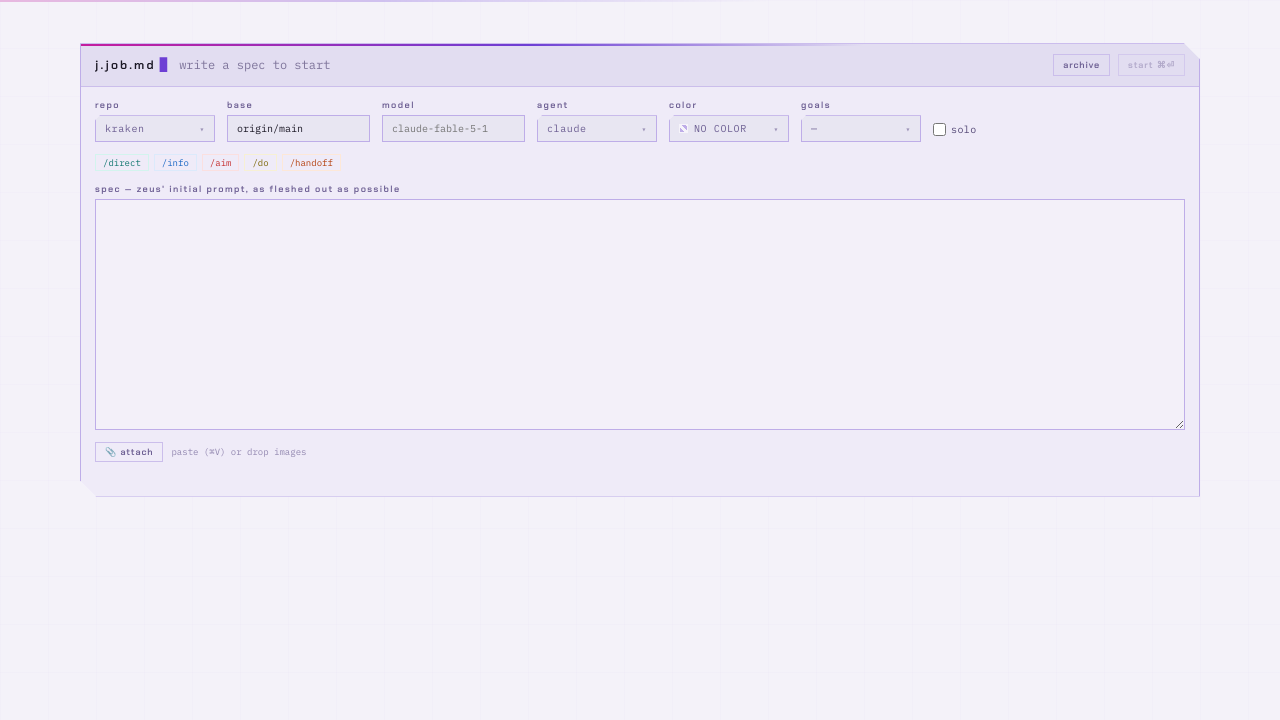
Scenario: the submit affordance is derived, not snapshotted › a job MISSING from the board is treated as a fresh draft, not as unarmable
This screenshot has width=1280, height=720.
Type "x" into the text box with id "editor-text". click: (640, 314)
box: [95,199,1185,430]
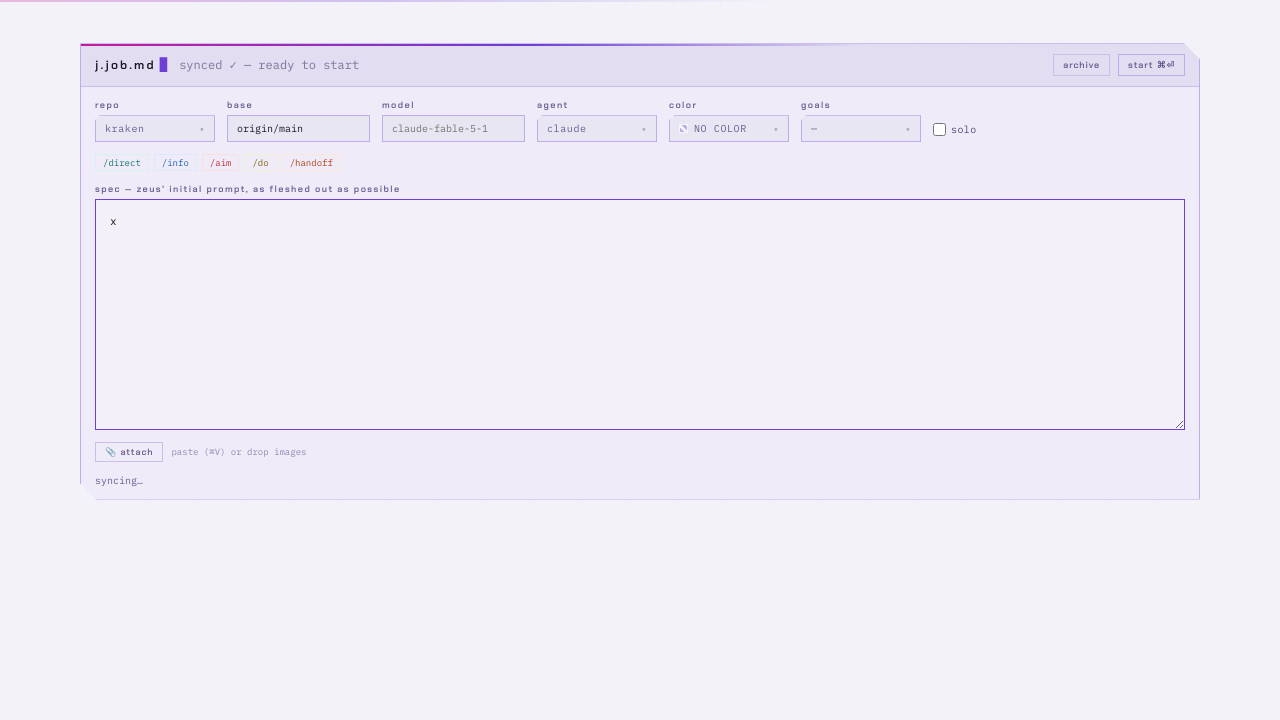
Now the button with id "editor-submit" is enabled, box [1118,54,1185,76]
